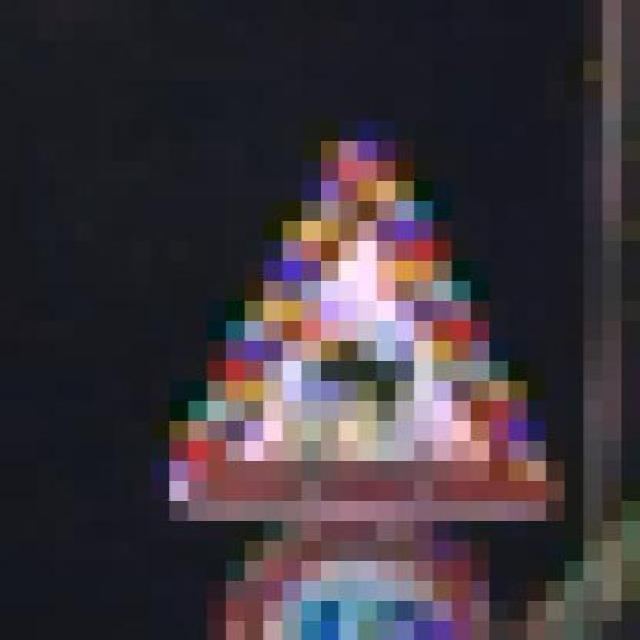Slippery Road Ahead: (132, 100, 566, 520)
